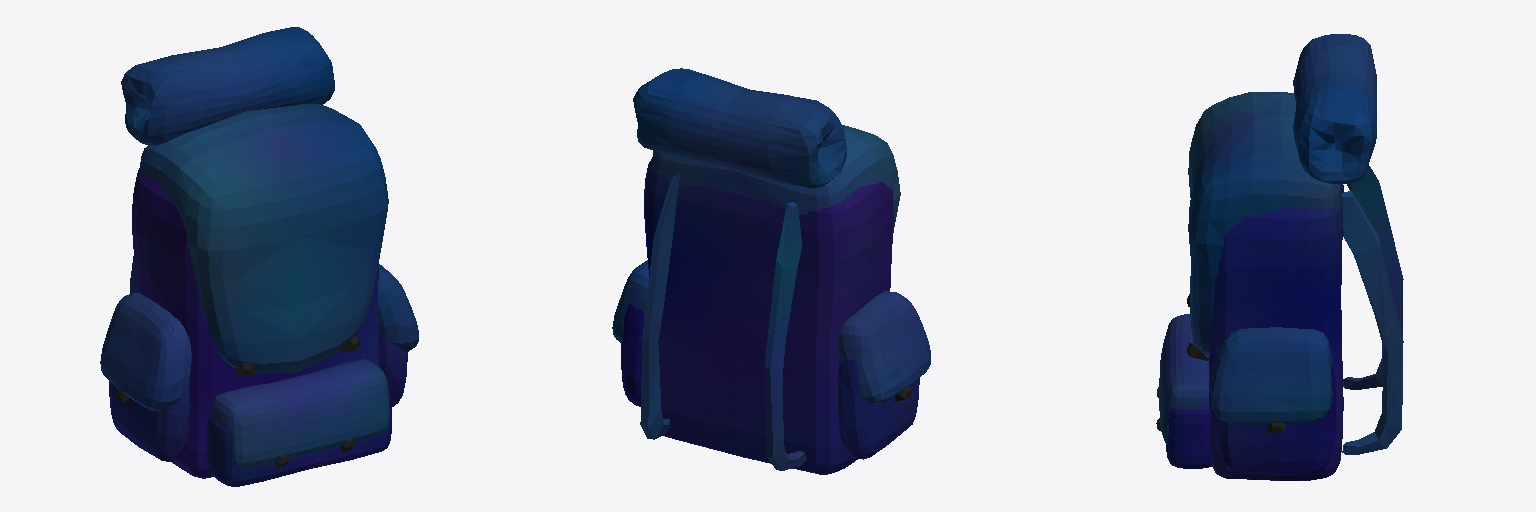
3 renders of one model, left to right at view 1: azimuth 30°, elevation 25°; view 2: azimuth 150°, elevation 25°; view 3: azimuth 270°, elevation 25°, orthographic.
Visible parts, largest first — view 1: Group1868, Group1838, Group1778, Group1823, Group1883, Group1898, Group2018, Group1958, Group1928; view 2: Group1778, Group1838, Group1868, Group1883, Group1913, Group1793, Group2018, Group1928, Group1958; view 3: Group1868, Group1778, Group1838, Group1958, Group1793, Group1928, Group1823, Group1913, Group1898.
Boxes of the visible parts, box(x1,y1,x2,y2) form: Group1868: box(140, 104, 388, 373); Group1838: box(121, 27, 334, 145); Group1778: box(132, 168, 378, 478); Group1823: box(212, 359, 389, 467); Group1883: box(100, 293, 191, 410); Group1898: box(207, 389, 391, 486); Group2018: box(109, 378, 190, 461); Group1958: box(378, 264, 418, 351); Group1928: box(378, 332, 407, 406); Group1778: box(644, 159, 893, 474); Group1838: box(633, 68, 846, 188); Group1868: box(652, 125, 900, 232); Group1883: box(838, 291, 930, 403); Group1913: box(765, 202, 805, 470); Group1793: box(640, 174, 679, 439); Group2018: box(838, 358, 919, 459); Group1928: box(621, 304, 644, 406); Group1958: box(612, 260, 648, 342); Group1868: box(1188, 92, 1341, 356); Group1778: box(1209, 184, 1343, 480); Group1838: box(1293, 34, 1376, 183); Group1958: box(1210, 327, 1332, 424); Group1793: box(1341, 191, 1403, 454); Group1928: box(1214, 366, 1335, 475); Group1823: box(1159, 314, 1208, 443); Group1913: box(1343, 165, 1403, 389); Group1898: box(1166, 407, 1211, 468).
Bounding box in the file's own units: 2.76 × 3.56 × 2.12.
Materials: 1 (1 with a texture image).